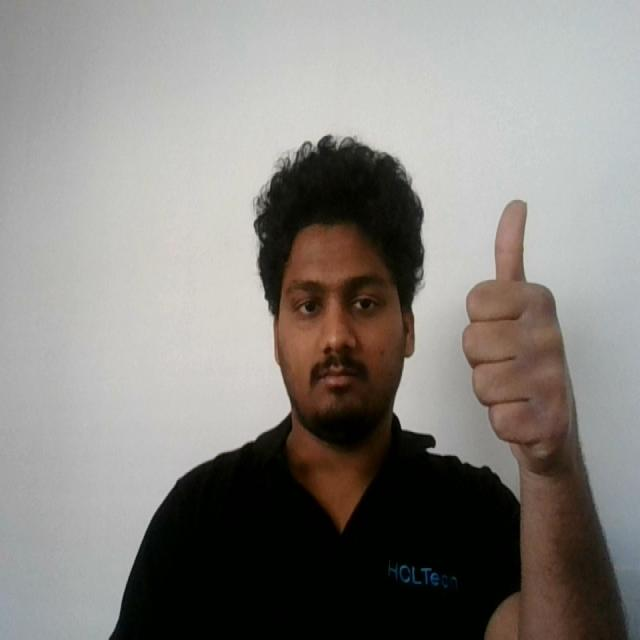Yes: (455, 190, 593, 484)
